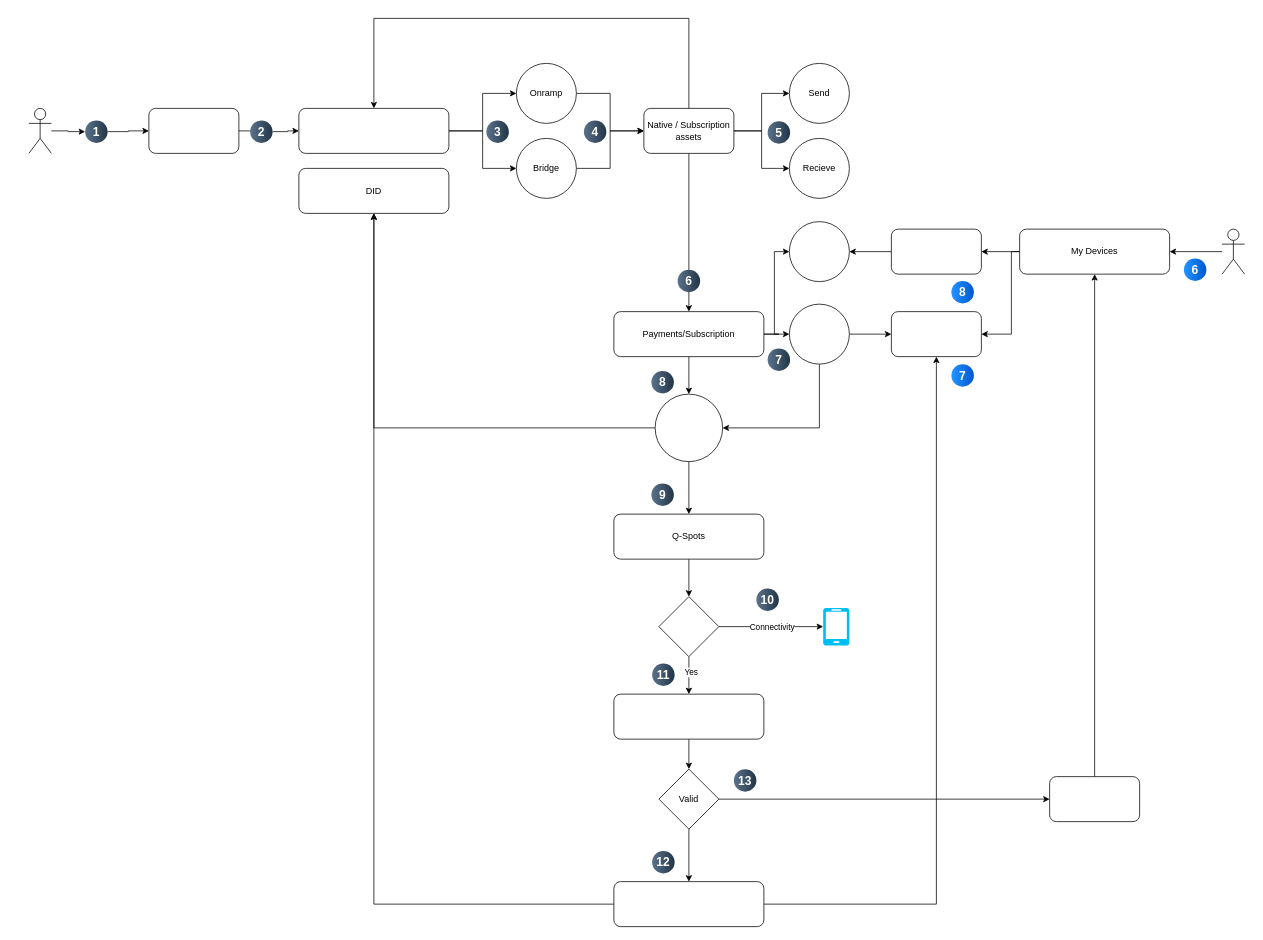
This 1263x940 diagram has some shape labels left out. The box of each missing label's shape, as (x1, y1, x2, y2) in pixels:
Delist: (1049, 776, 1140, 822)
Earning: (891, 311, 981, 357)
Issues: (658, 596, 719, 657)
Pay: (789, 303, 849, 364)
Provider: (1221, 228, 1245, 274)
Relist: (891, 228, 981, 274)
Rewards: (613, 881, 764, 927)
Signup/login: (148, 108, 239, 153)
Stake: (789, 221, 849, 282)
Usage NFT / Cert / Attestation: (654, 393, 723, 462)
User/Provider: (28, 108, 51, 153)
Wallet: (298, 108, 449, 153)
Warrents: (613, 693, 764, 739)
